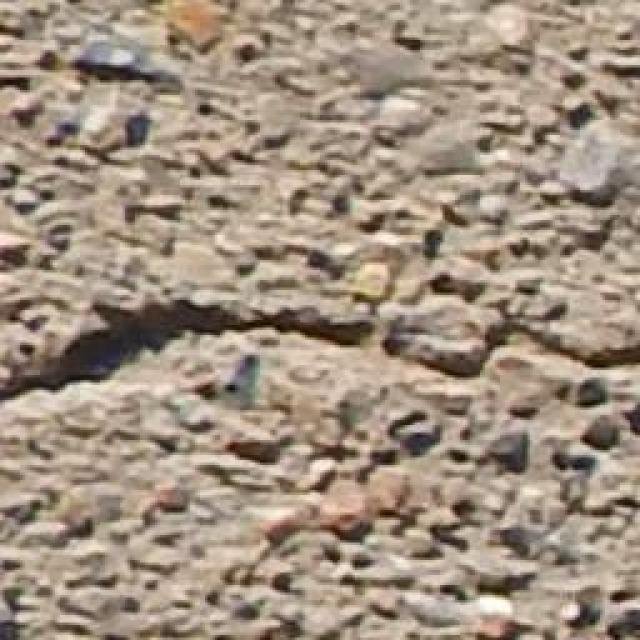concrete-crack: (3, 266, 640, 410)
